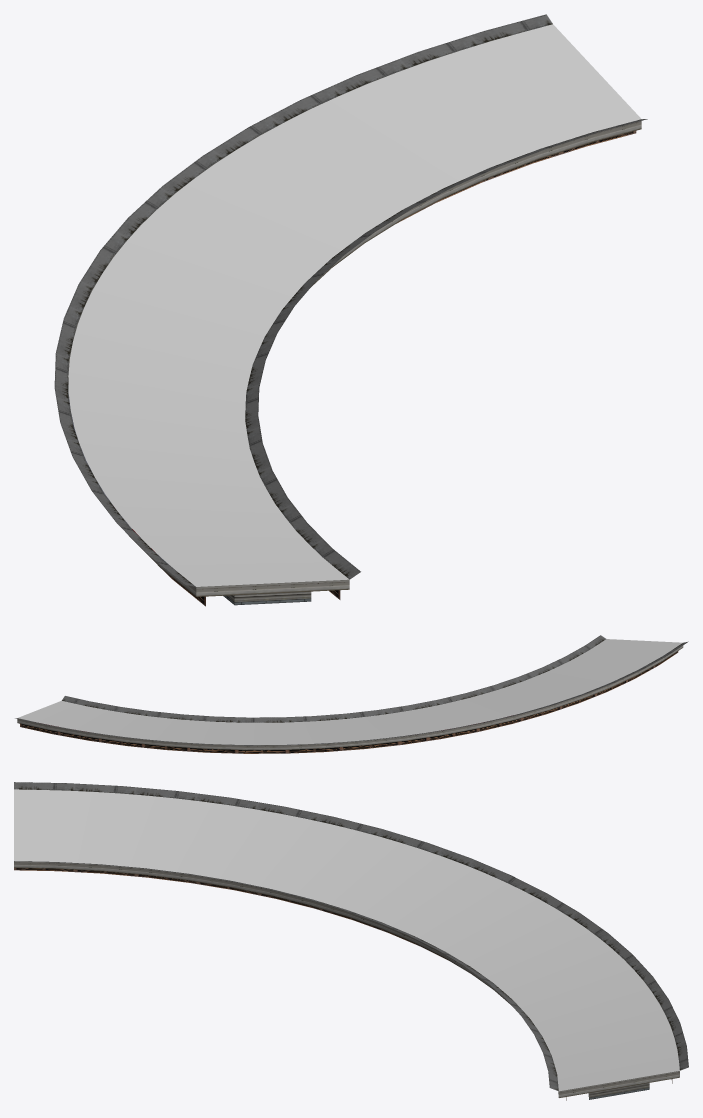
File: Bend3x3Banked.fbx
The picture shows the model from 3 angles, top to bottom: view 1: azimuth 30°, elevation 25°; view 2: azimuth 150°, elevation 25°; view 3: azimuth 270°, elevation 25°; orthographic projection. The views are drawn at different scales.
Parts seen in each view (by area): view 1: Empty_Mesh; view 2: Empty_Mesh; view 3: Empty_Mesh.
Boxes of the visible parts, <box> form: Empty_Mesh: <box>54,14,647,606</box>; Empty_Mesh: <box>15,635,688,753</box>; Empty_Mesh: <box>14,782,688,1100</box>.
Bounding box in the file's own units: 89.2 × 5.31 × 89.2.
